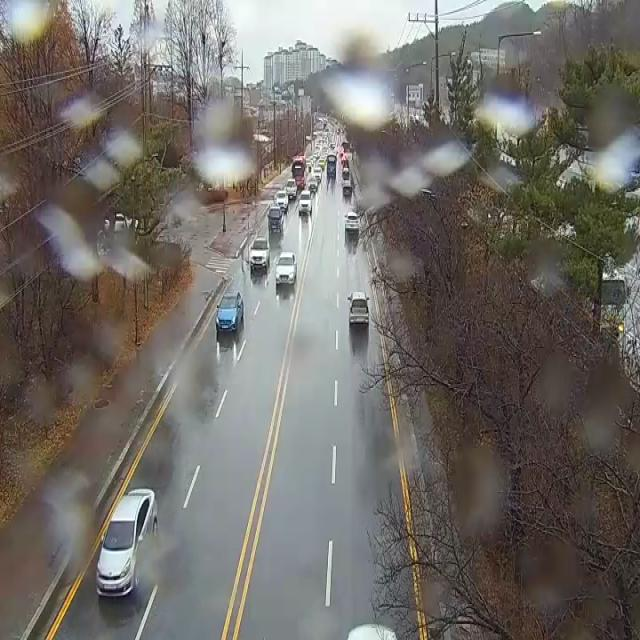Bus: (292, 156, 306, 190), (328, 153, 337, 179)
Car: (96, 489, 157, 597), (215, 292, 244, 332), (346, 624, 396, 640), (275, 252, 297, 285), (348, 292, 370, 324), (250, 237, 270, 269), (104, 213, 139, 231), (344, 212, 360, 231), (299, 191, 312, 212), (276, 190, 288, 212), (286, 179, 297, 200), (308, 177, 318, 192), (314, 168, 322, 182), (343, 186, 352, 197), (318, 160, 325, 170)
Truck: (267, 206, 284, 230)
